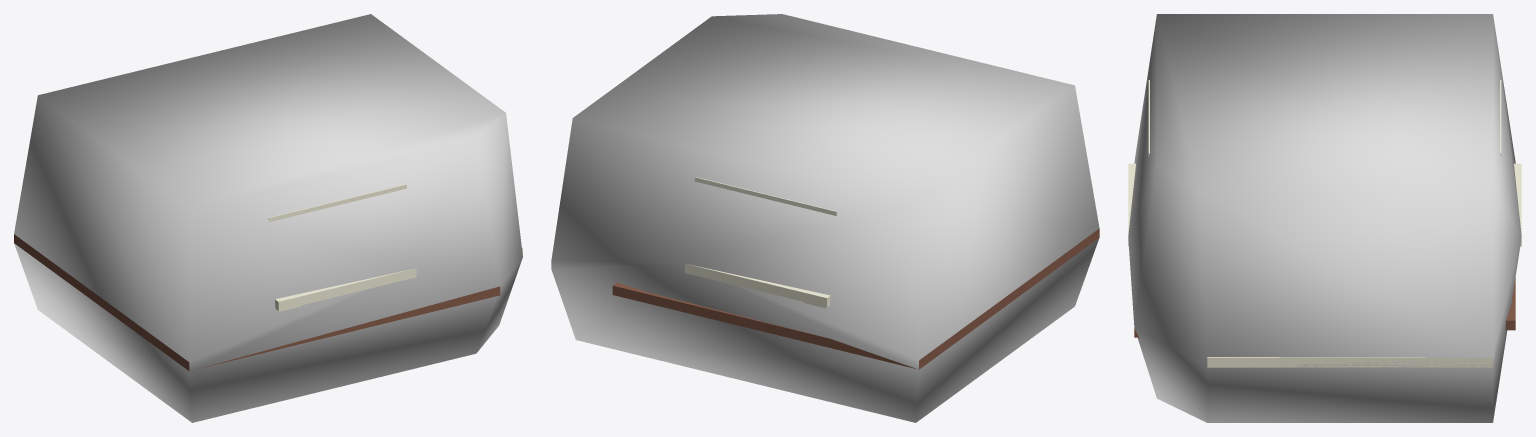
The picture shows the model from 3 angles, left to right: view 1: azimuth 30°, elevation 25°; view 2: azimuth 150°, elevation 25°; view 3: azimuth 270°, elevation 25°; orthographic projection. The views are drawn at different scales.
Visible parts, largest first — view 1: struct_city_block_tall_base_a_01_col, struct_city_block_tall_base_a_01; view 2: struct_city_block_tall_base_a_01_col, struct_city_block_tall_base_a_01; view 3: struct_city_block_tall_base_a_01_col, struct_city_block_tall_base_a_01.
Part boxes in pixels (x1=…): struct_city_block_tall_base_a_01_col: x1=14, y1=14, x2=522, y2=422; struct_city_block_tall_base_a_01: x1=14, y1=184, x2=522, y2=370; struct_city_block_tall_base_a_01_col: x1=551, y1=14, x2=1099, y2=422; struct_city_block_tall_base_a_01: x1=612, y1=177, x2=1099, y2=369; struct_city_block_tall_base_a_01_col: x1=1128, y1=14, x2=1521, y2=422; struct_city_block_tall_base_a_01: x1=1128, y1=80, x2=1521, y2=367.
Bounding box in the file's own units: 9.95 × 5.55 × 8.48.
1 material, 1 textured.
